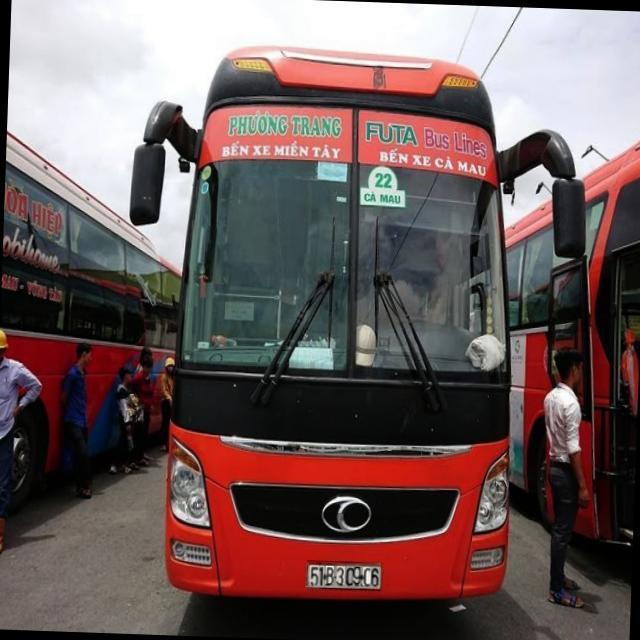car: (134, 9, 555, 631), (1, 32, 191, 569), (485, 122, 639, 640)
plate: (300, 557, 386, 594)
